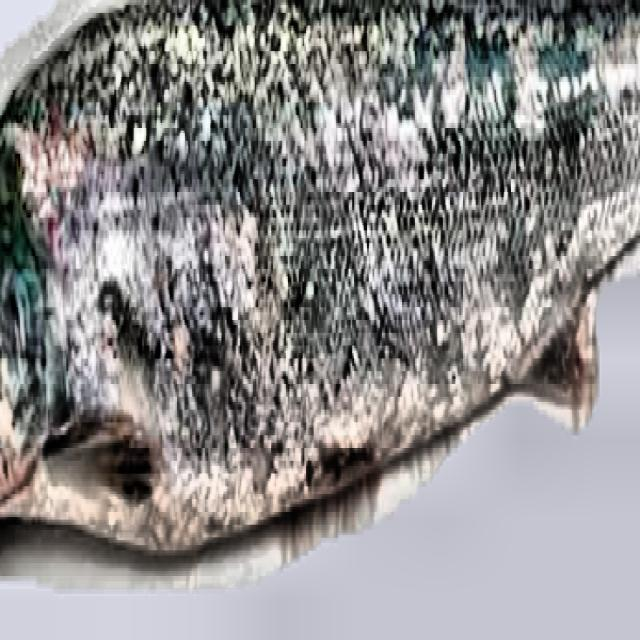mild_red: (0, 0, 639, 553)
